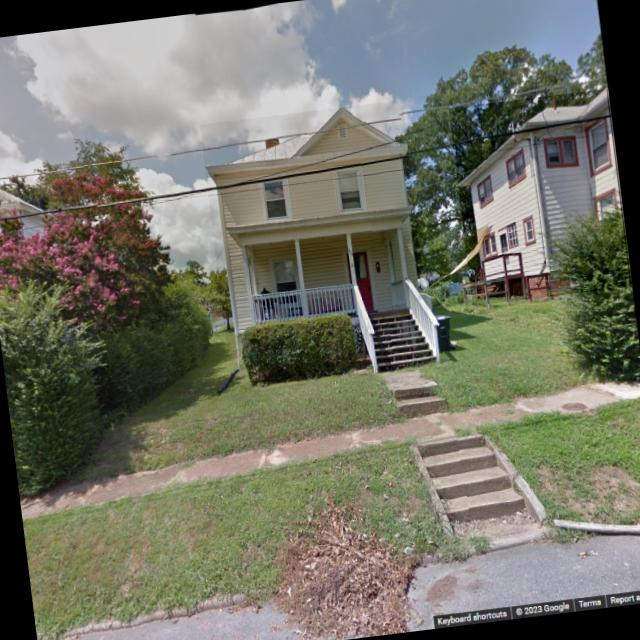House: (200, 100, 435, 390), (448, 88, 632, 306)
